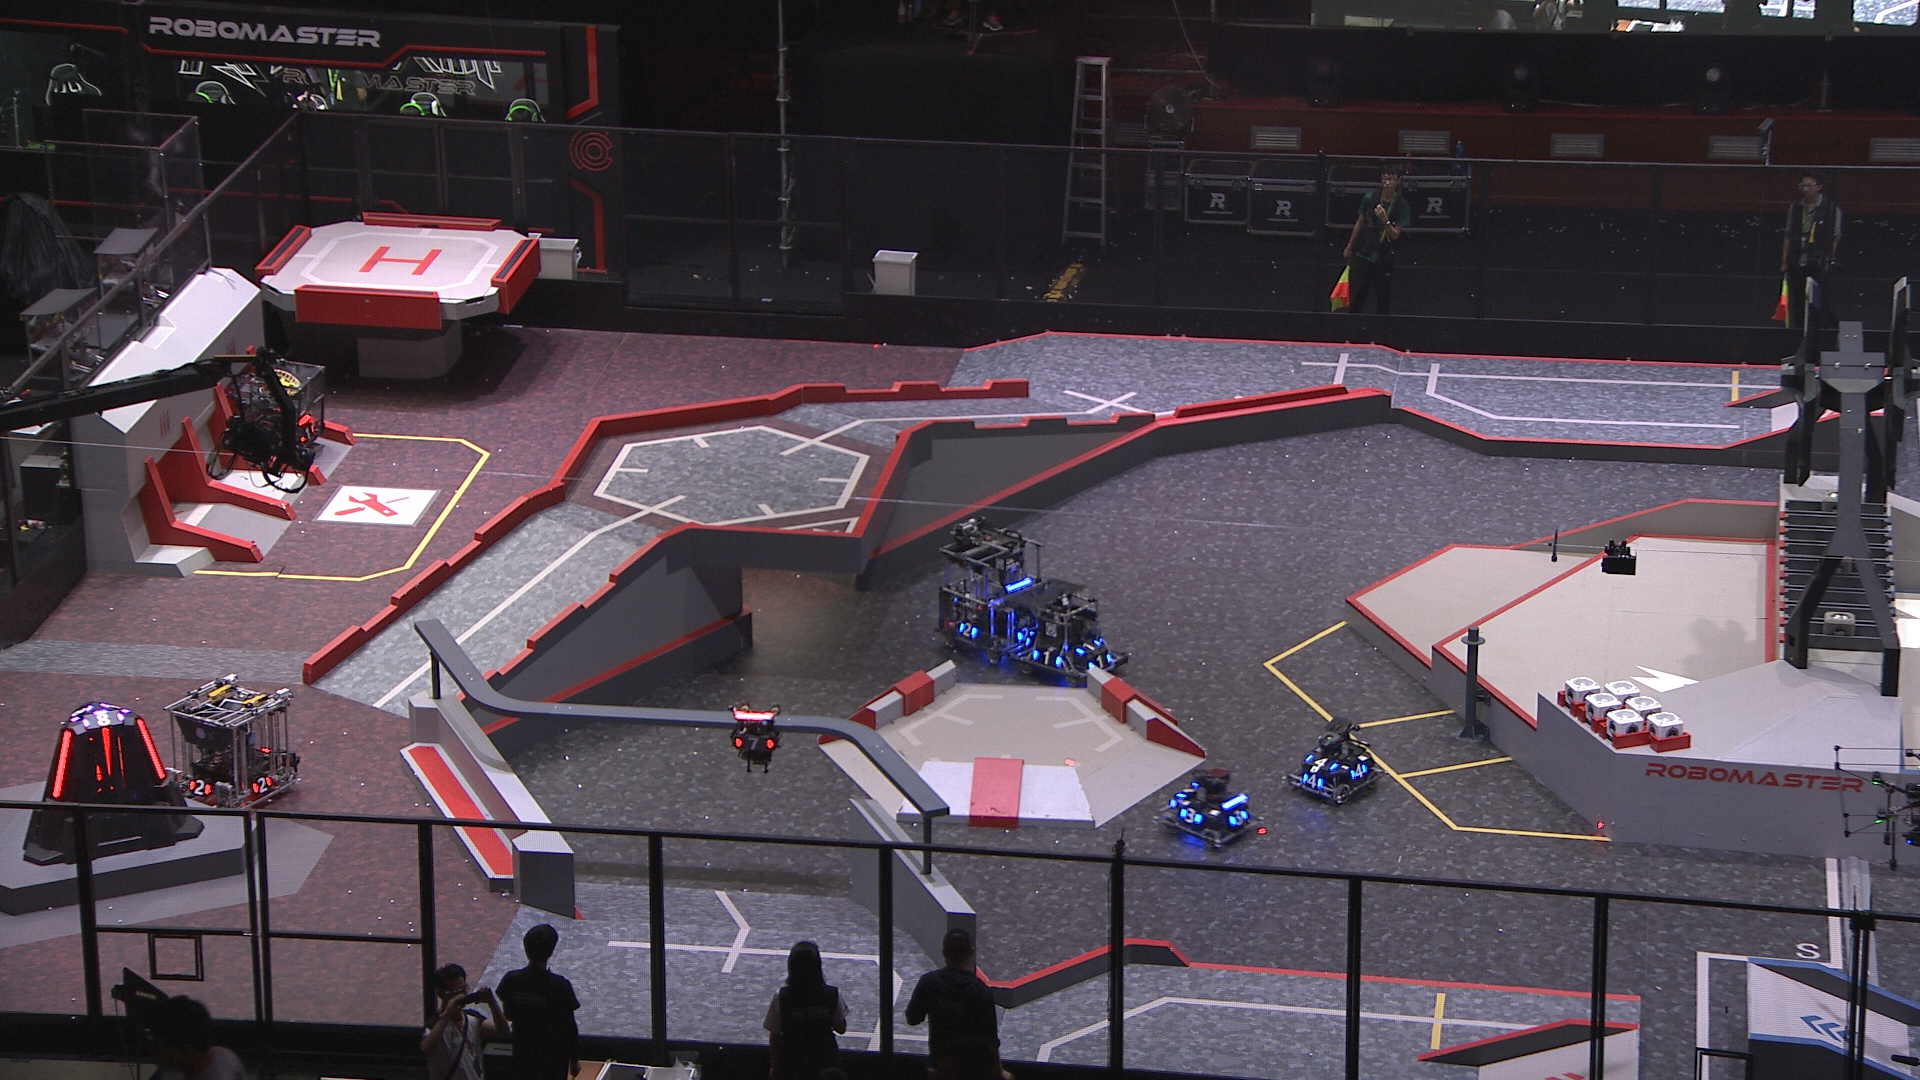armor: (133, 717, 167, 781), (50, 728, 71, 798), (732, 733, 775, 752), (1305, 754, 1337, 771), (100, 728, 111, 779), (1033, 650, 1062, 669), (1073, 638, 1102, 655), (1087, 651, 1116, 669), (249, 775, 276, 794), (186, 778, 211, 796), (1013, 626, 1036, 645), (1182, 808, 1205, 827), (1302, 773, 1324, 790), (957, 622, 978, 640), (1228, 808, 1249, 825), (1178, 782, 1199, 799), (301, 425, 318, 440), (1352, 764, 1370, 778)
base: (18, 698, 200, 864)
car: (166, 671, 309, 814), (934, 517, 1046, 665), (994, 576, 1129, 684), (223, 345, 328, 472), (1288, 713, 1382, 804), (1168, 764, 1259, 847)
ignore: (83, 711, 123, 728), (69, 700, 92, 723)
watcher: (731, 703, 782, 774)
